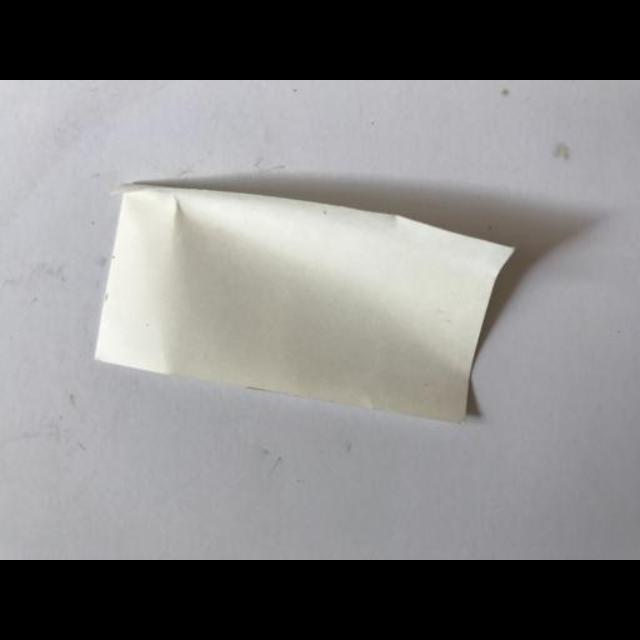papel: (91, 180, 516, 424)
